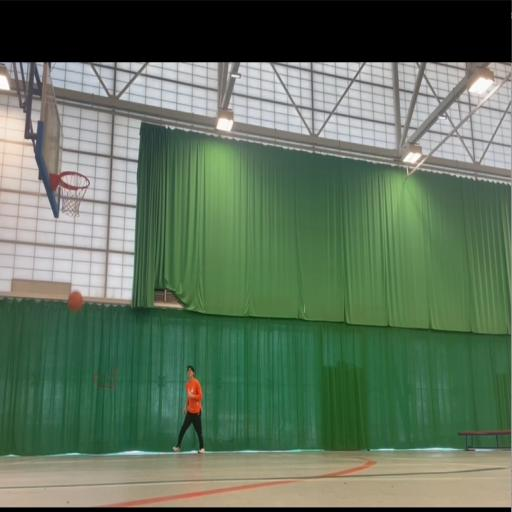hoops: (54, 164, 94, 224)
